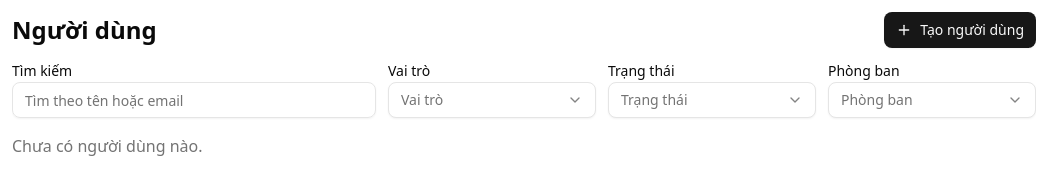
Test case: UsersPage — trạng thái rỗng (AC5) › rỗng do lọc → "Không tìm thấy người dùng phù hợp."
Type "khong-ai-khop" into the field labelled "Tìm kiếm" at (194, 100), box x1=12 y1=82 x2=376 y2=118
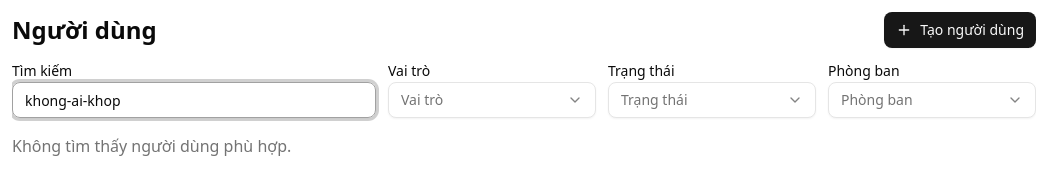
Expected: the text "Không tìm thấy người dùng phù hợp." is shown, x1=12 y1=135 x2=291 y2=157
Expected: the text "Chưa có người dùng nào." is gone
